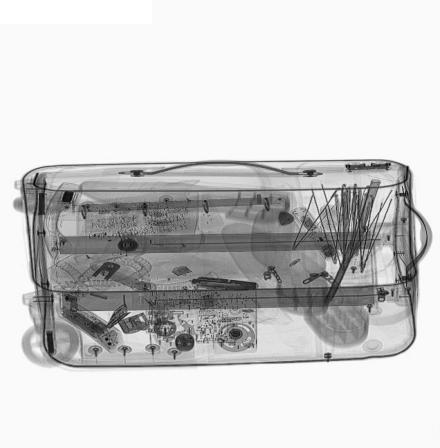Knife: (192, 277, 259, 289)
